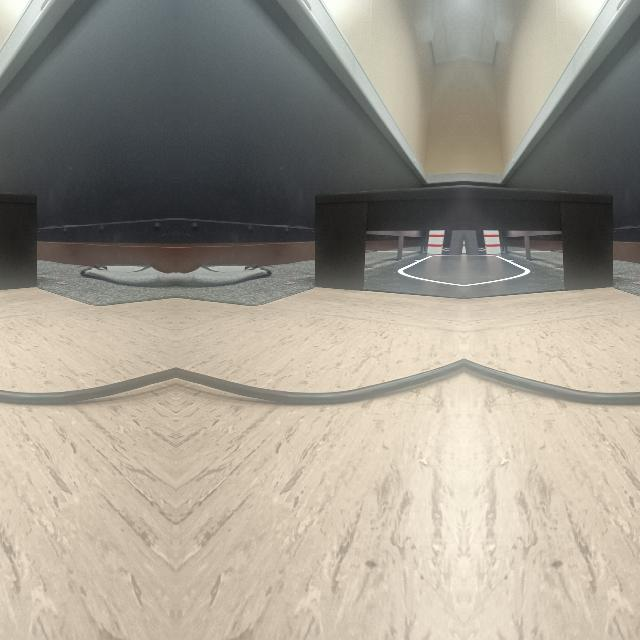obstacle: (311, 188, 463, 290), (464, 188, 616, 290), (178, 366, 460, 406), (466, 366, 640, 406), (0, 366, 172, 406), (0, 188, 39, 289)
